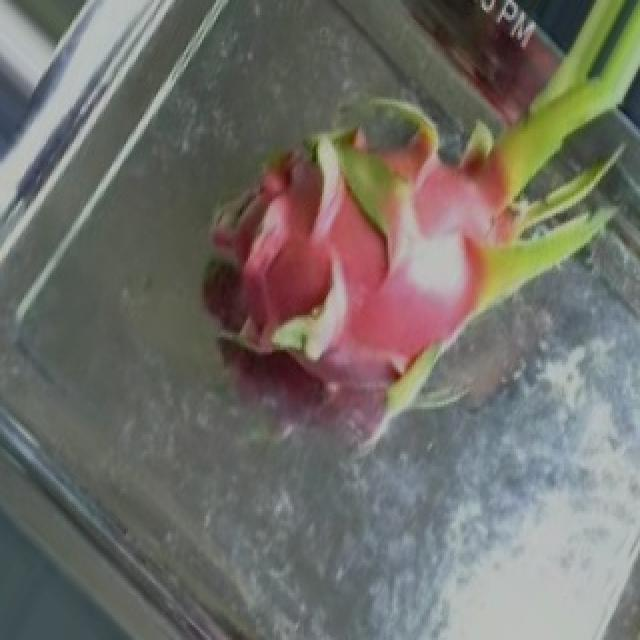fruit: (210, 142, 636, 524), (114, 7, 440, 464)
